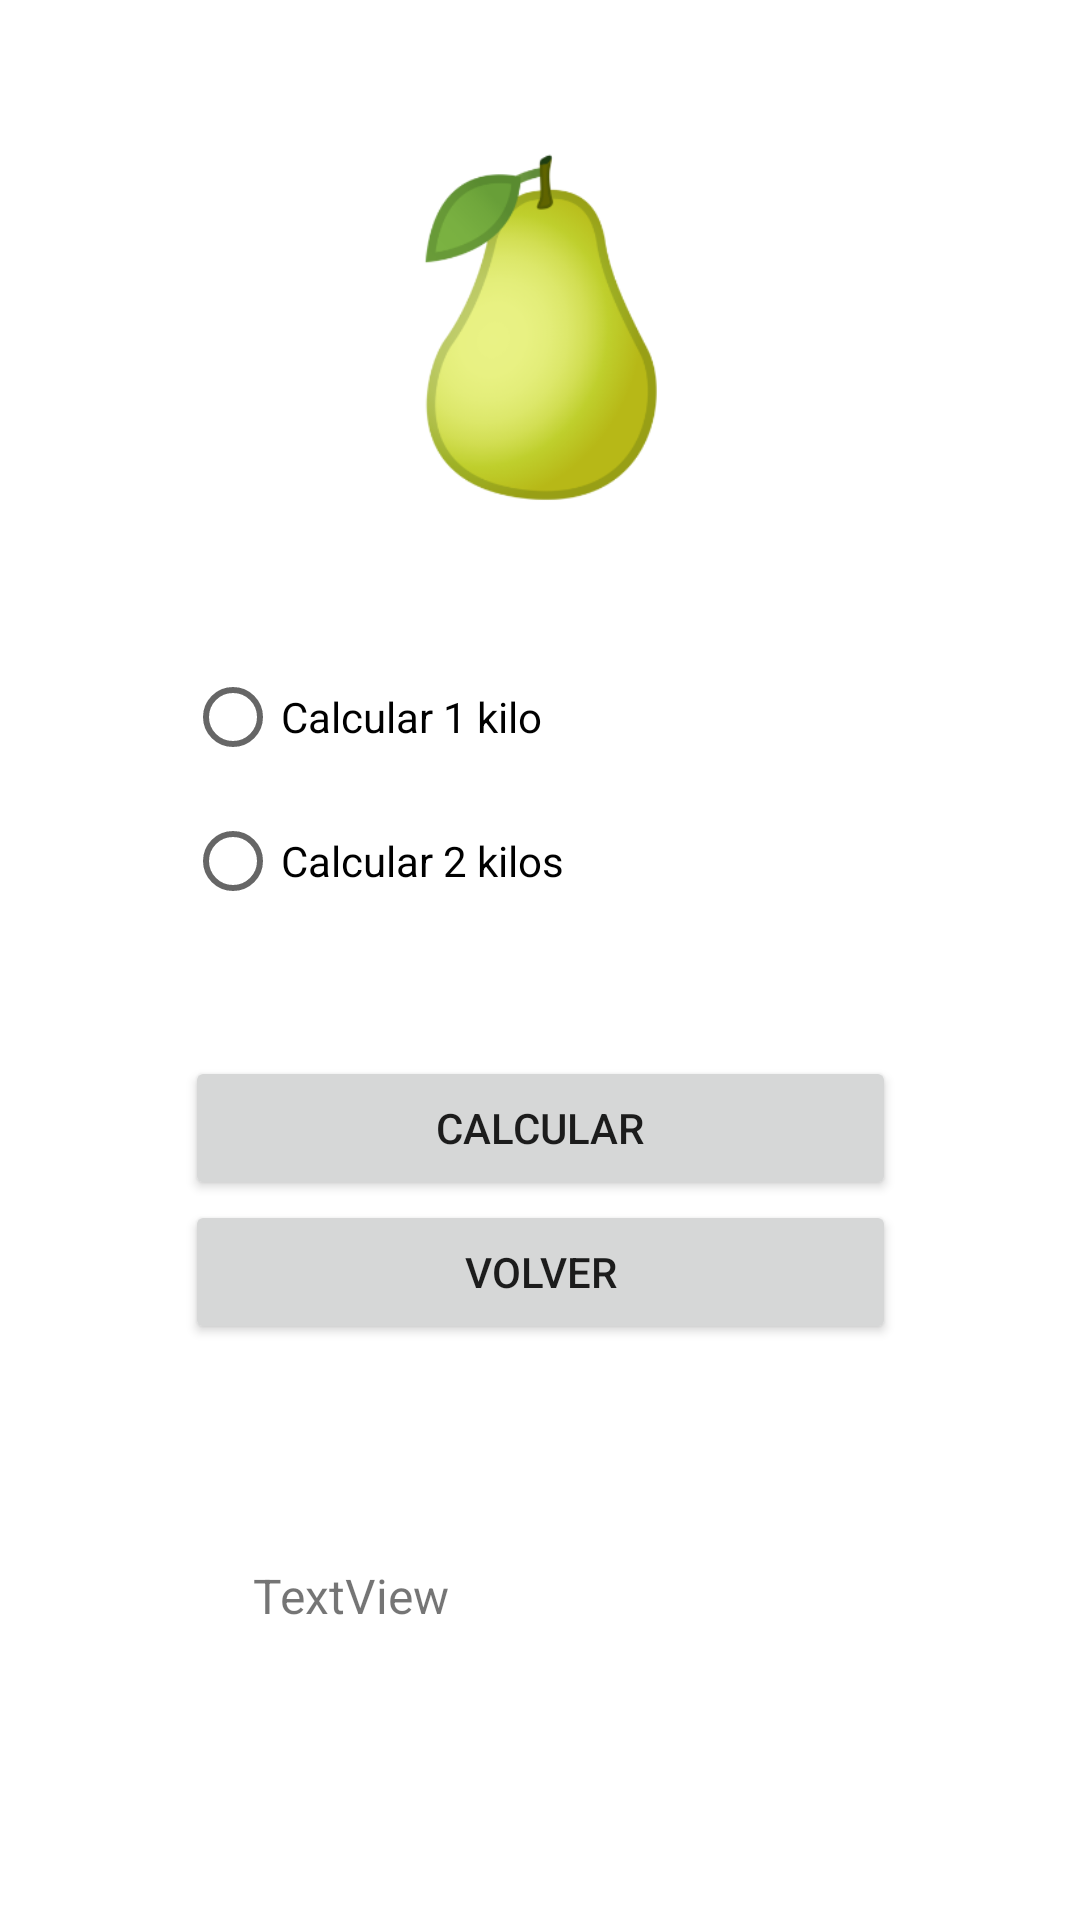

Icon bounding boxes for this 1080px×1920px phone screenshot, format rect(x1, y1, x2, y2):
pera: rect(425, 154, 657, 500)
